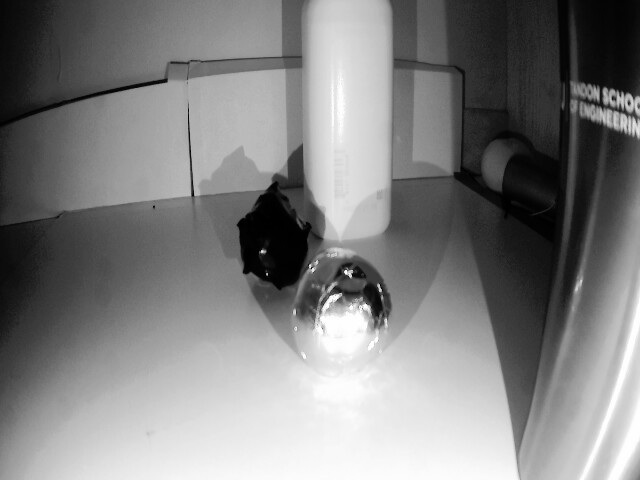black: (237, 203, 306, 296)
silver: (289, 250, 394, 375)
